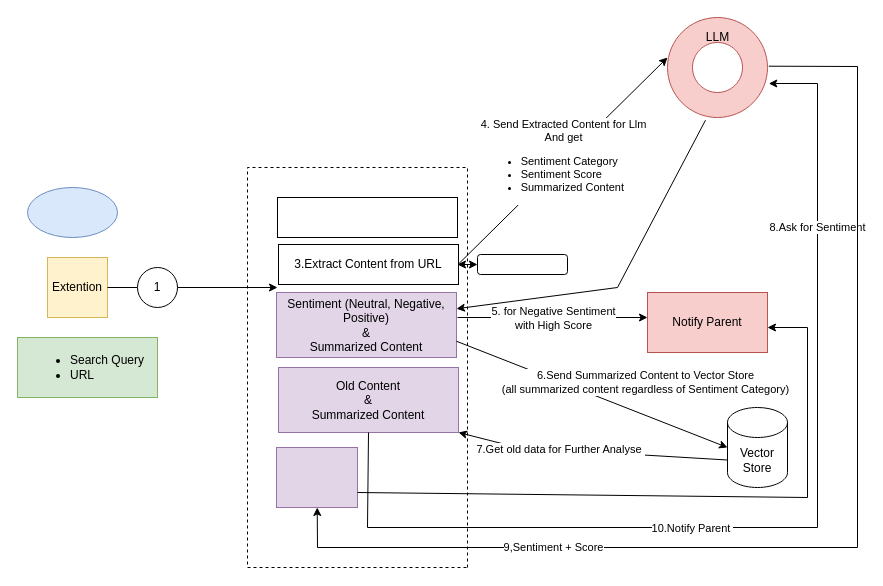
The diagram is 883 pixels wide and 586 high, and some of its shapes have lost their labels. Here are the shapes that lost their labels. From the top down, the centre of each, then its label:
At (x=72, y=212): "User Id".
At (x=367, y=217): "2.Accept Request".
At (x=522, y=264): "WebbaseLoader".
At (x=317, y=477): "Sentiment + Score for Time Series".
